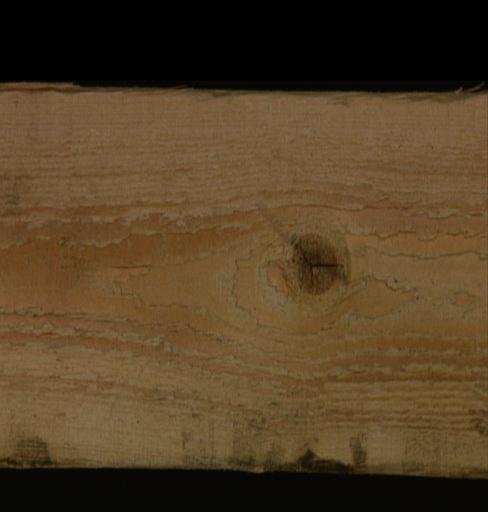sound_knot: (287, 230, 339, 298)
split: (104, 257, 161, 275)
wave: (278, 90, 486, 115), (0, 81, 258, 101)
